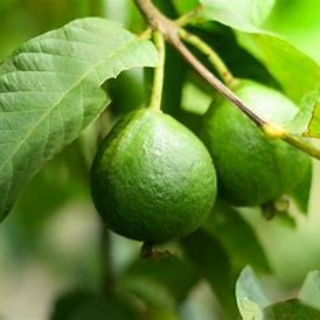oi: (91, 105, 223, 264)
